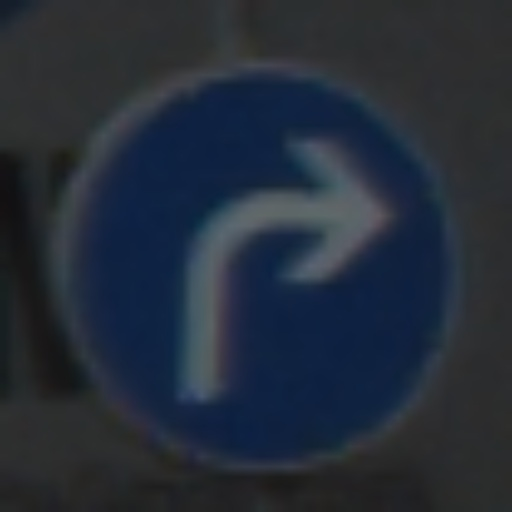Turn right: (71, 88, 443, 431)
